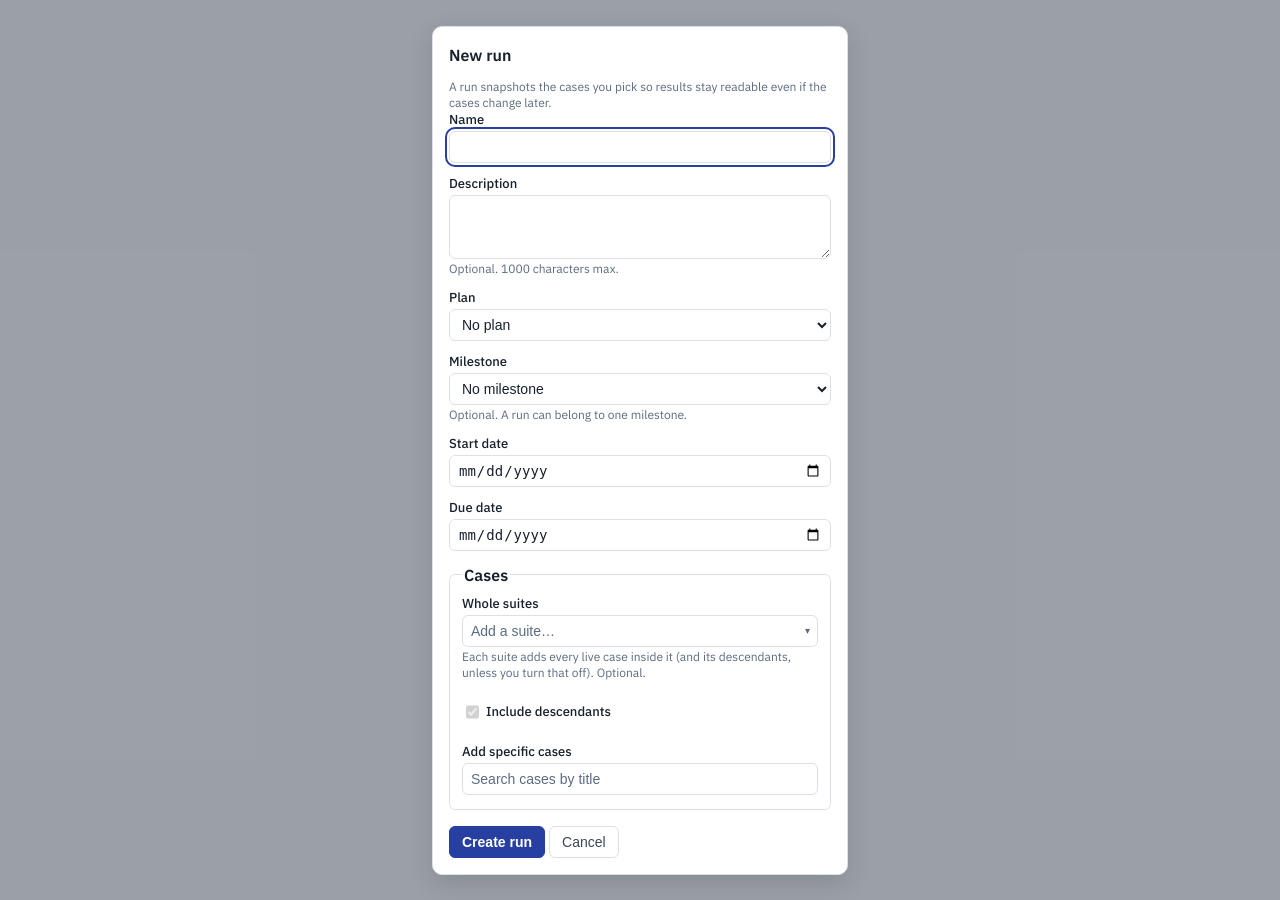
RunFormDialog › requires a name and does not submit an empty form
Step 1. Click the button "Create run" → click(497, 842), box [449,826,545,858]
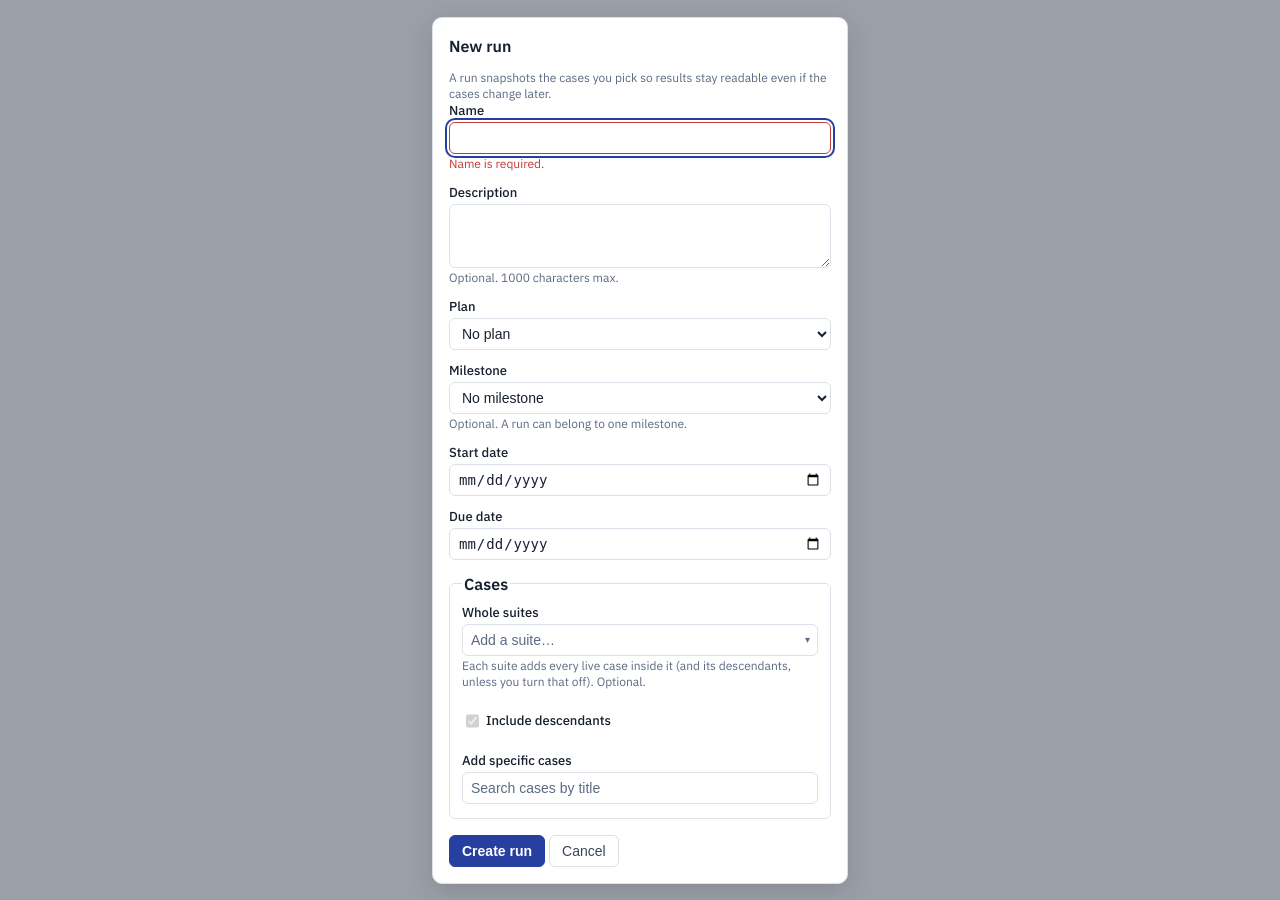
Now the text "Name is required." is shown, box [449,156,544,170]
